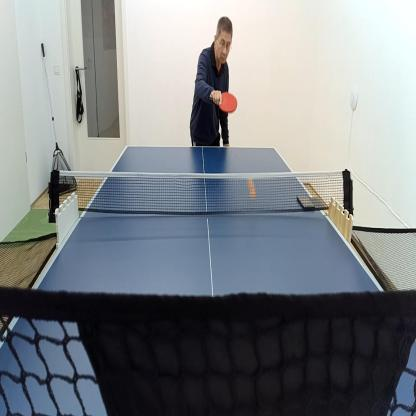Ball: (248, 180, 256, 200)
